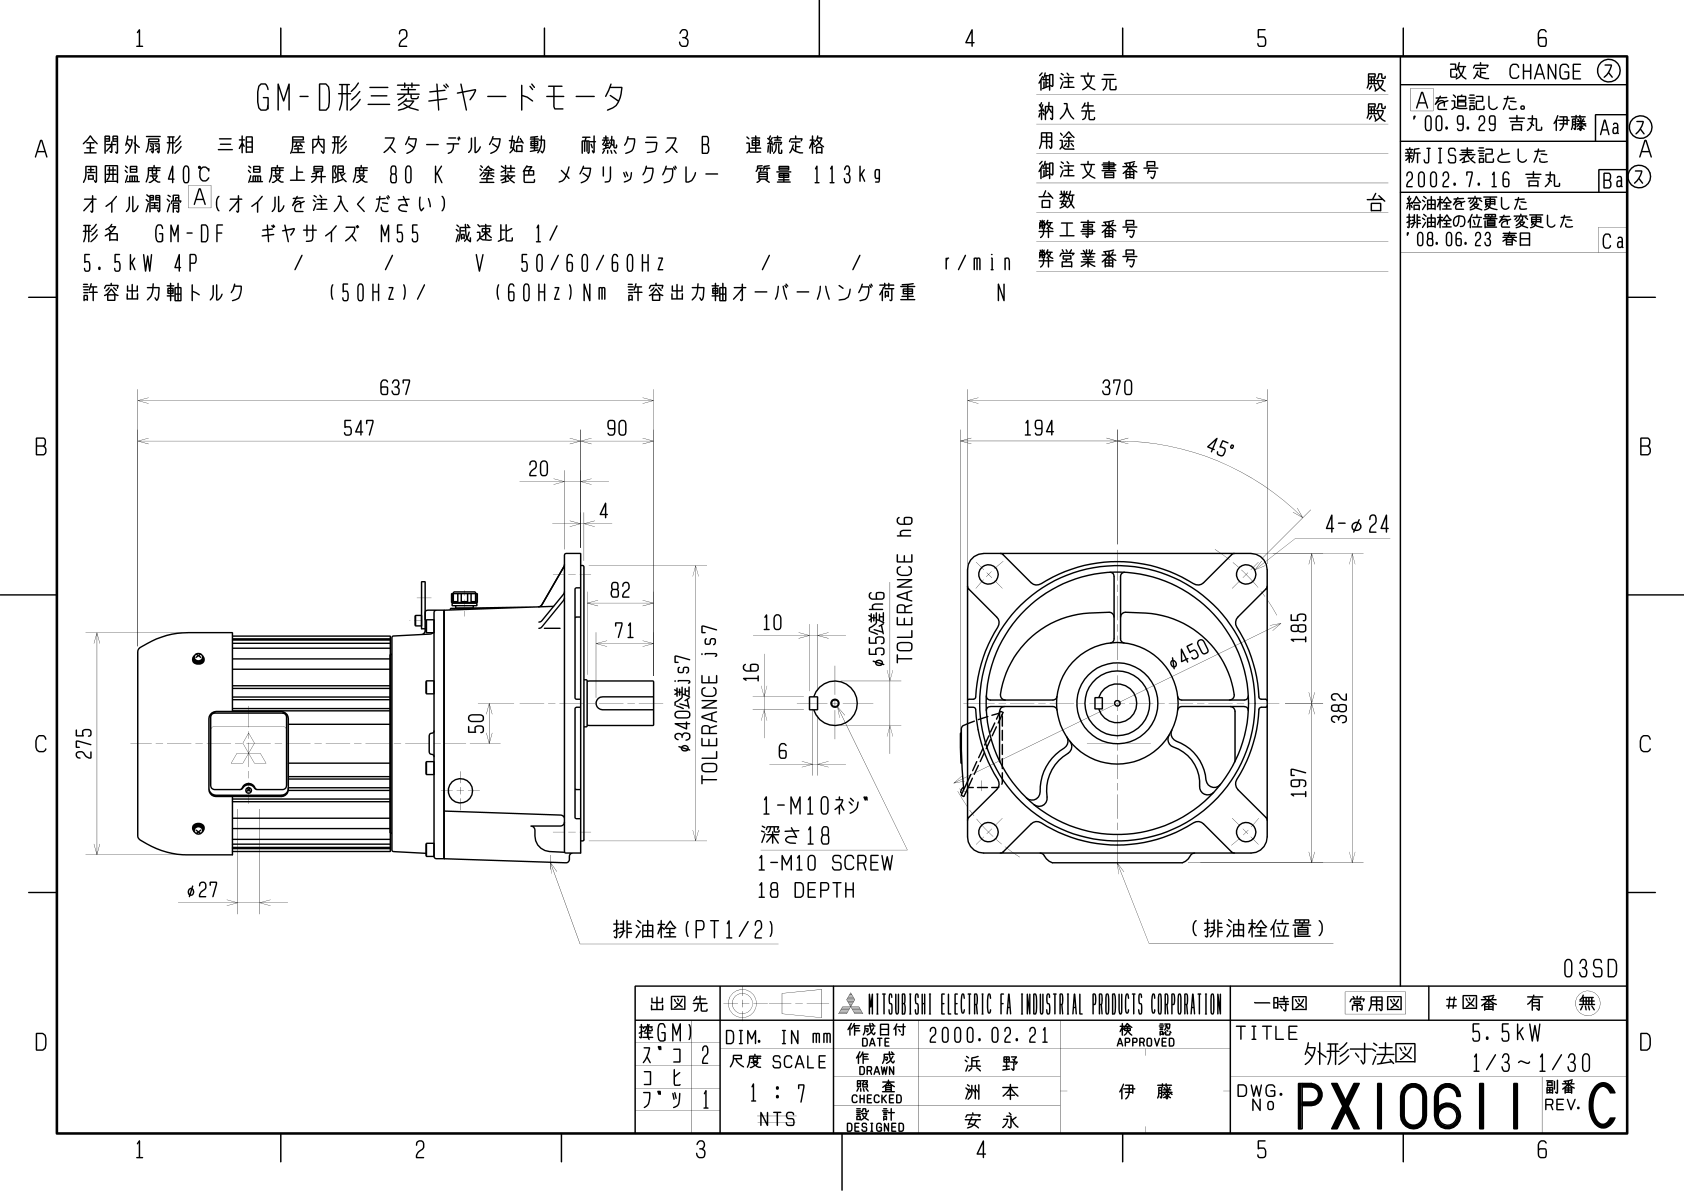GM_D_屋内＿三相_フランジ: (1, 1, 1674, 1183)
